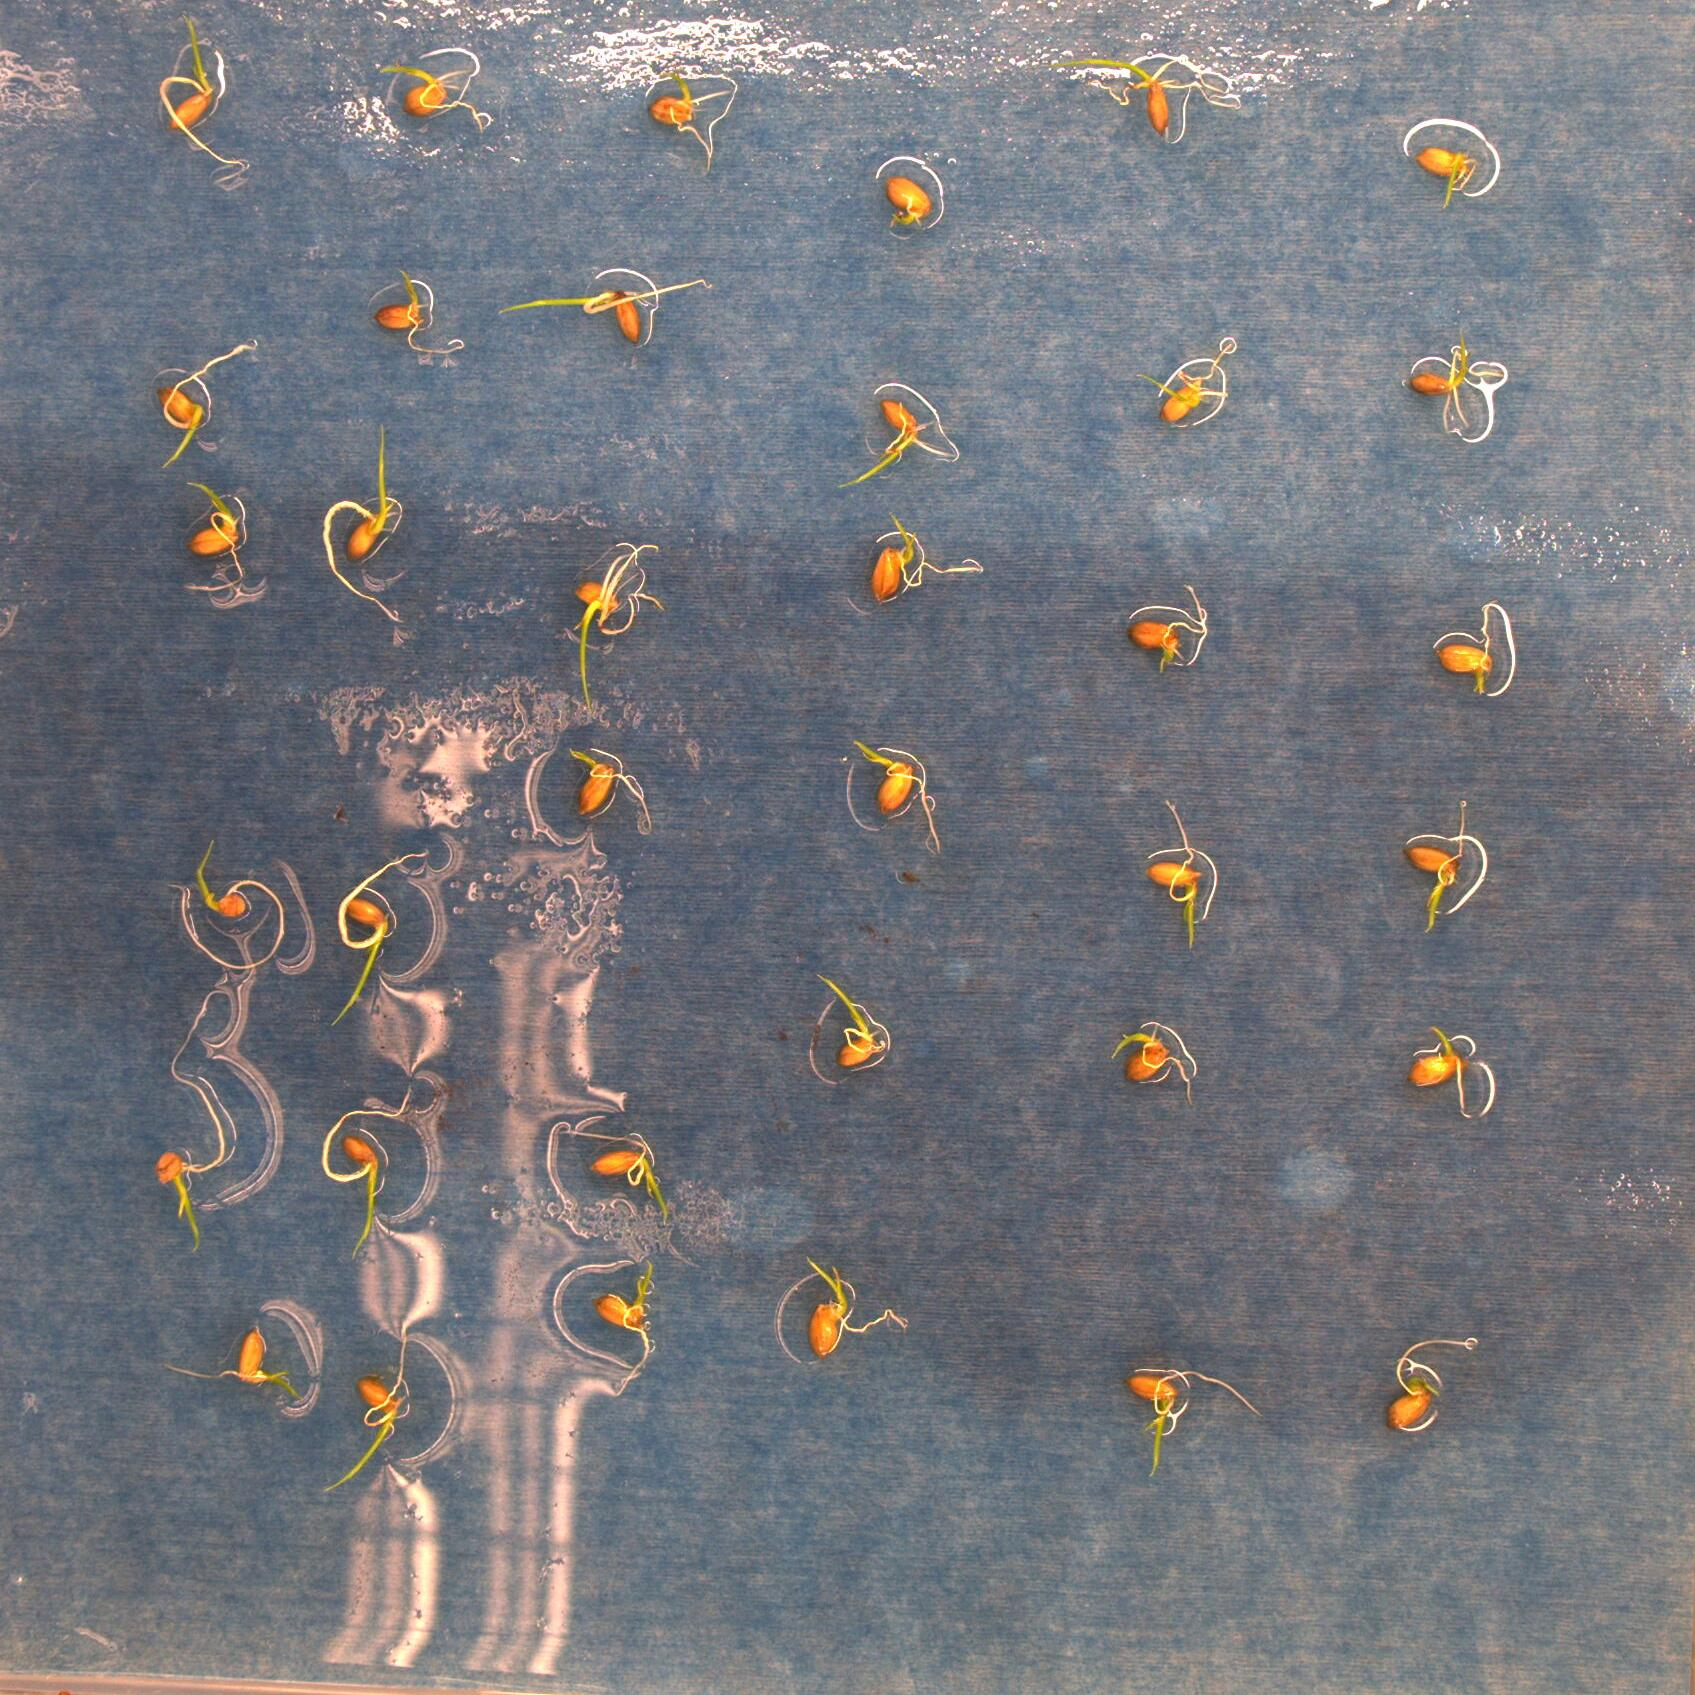not sprout: (886, 175, 933, 227)
sprout: (154, 987, 231, 1253), (1031, 57, 1243, 144), (328, 851, 432, 1028), (323, 424, 404, 624), (321, 1083, 413, 1259), (158, 12, 248, 186), (1122, 1366, 1260, 1478), (321, 1318, 408, 1495), (171, 838, 284, 972), (573, 543, 664, 706), (498, 276, 712, 345), (157, 341, 255, 470), (165, 1322, 310, 1403), (837, 397, 958, 490), (807, 1256, 906, 1363), (557, 1128, 667, 1225), (869, 512, 984, 604), (851, 737, 941, 854), (1146, 798, 1205, 950), (1386, 1335, 1479, 1430), (647, 71, 733, 172), (594, 1257, 655, 1399), (1405, 799, 1465, 934), (1138, 341, 1237, 424), (373, 269, 464, 355), (567, 745, 652, 834), (1127, 584, 1208, 674), (379, 67, 484, 135), (1405, 326, 1471, 432), (1433, 599, 1501, 697), (185, 480, 244, 591), (1405, 1023, 1470, 1121), (820, 975, 886, 1069), (1111, 1032, 1192, 1107), (1417, 144, 1479, 213)
